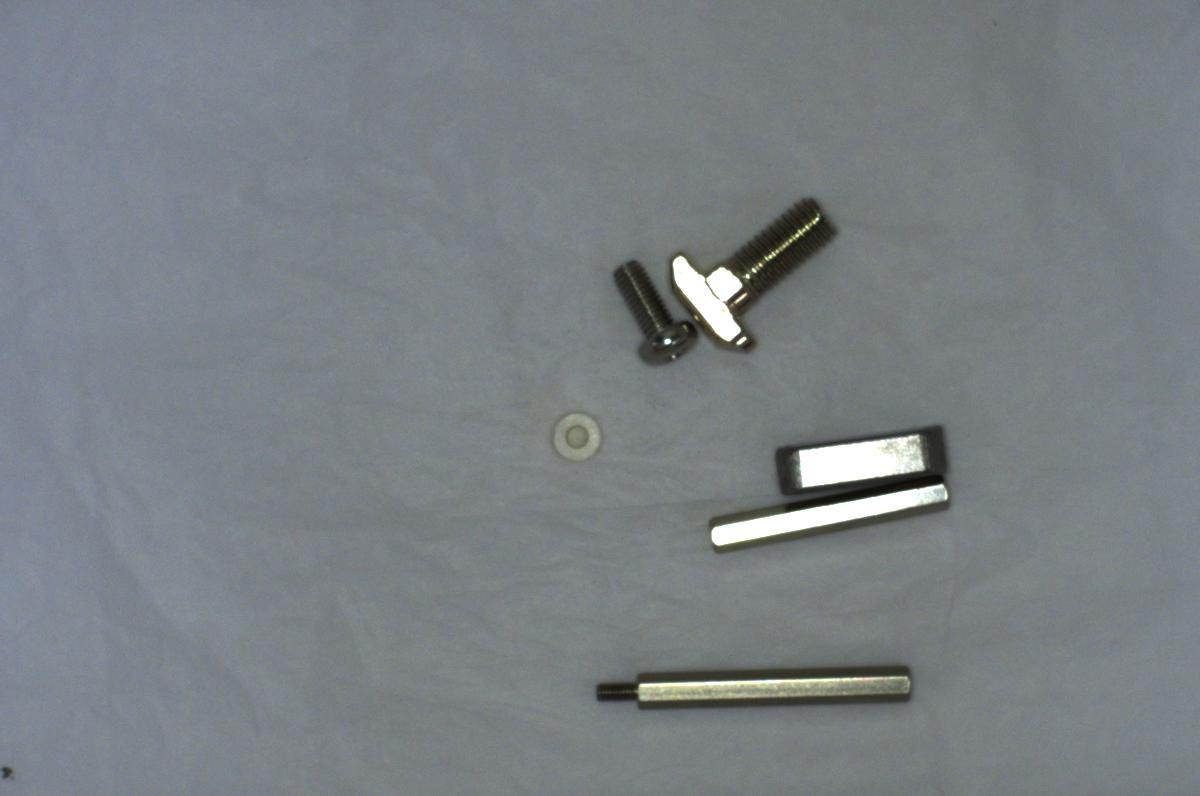Double hexagonal column: (694, 462, 962, 548)
Hexagonal steel column: (589, 654, 923, 718)
Keybar: (767, 410, 958, 498)
Plastic cushion pillar: (546, 403, 603, 465)
Round head screw: (606, 253, 696, 367)
T-shaped screw: (673, 196, 838, 359)
